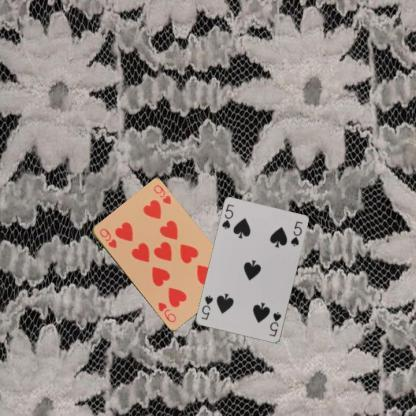5s: (219, 202, 236, 231), (266, 310, 283, 338)
9h: (96, 226, 118, 249)
